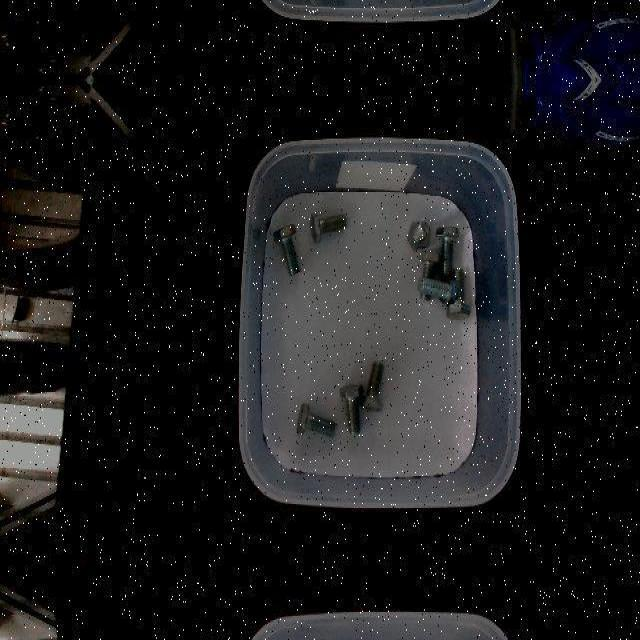screw: (272, 223, 300, 277), (417, 274, 458, 304), (309, 211, 347, 243), (435, 225, 459, 275), (408, 218, 431, 250)
